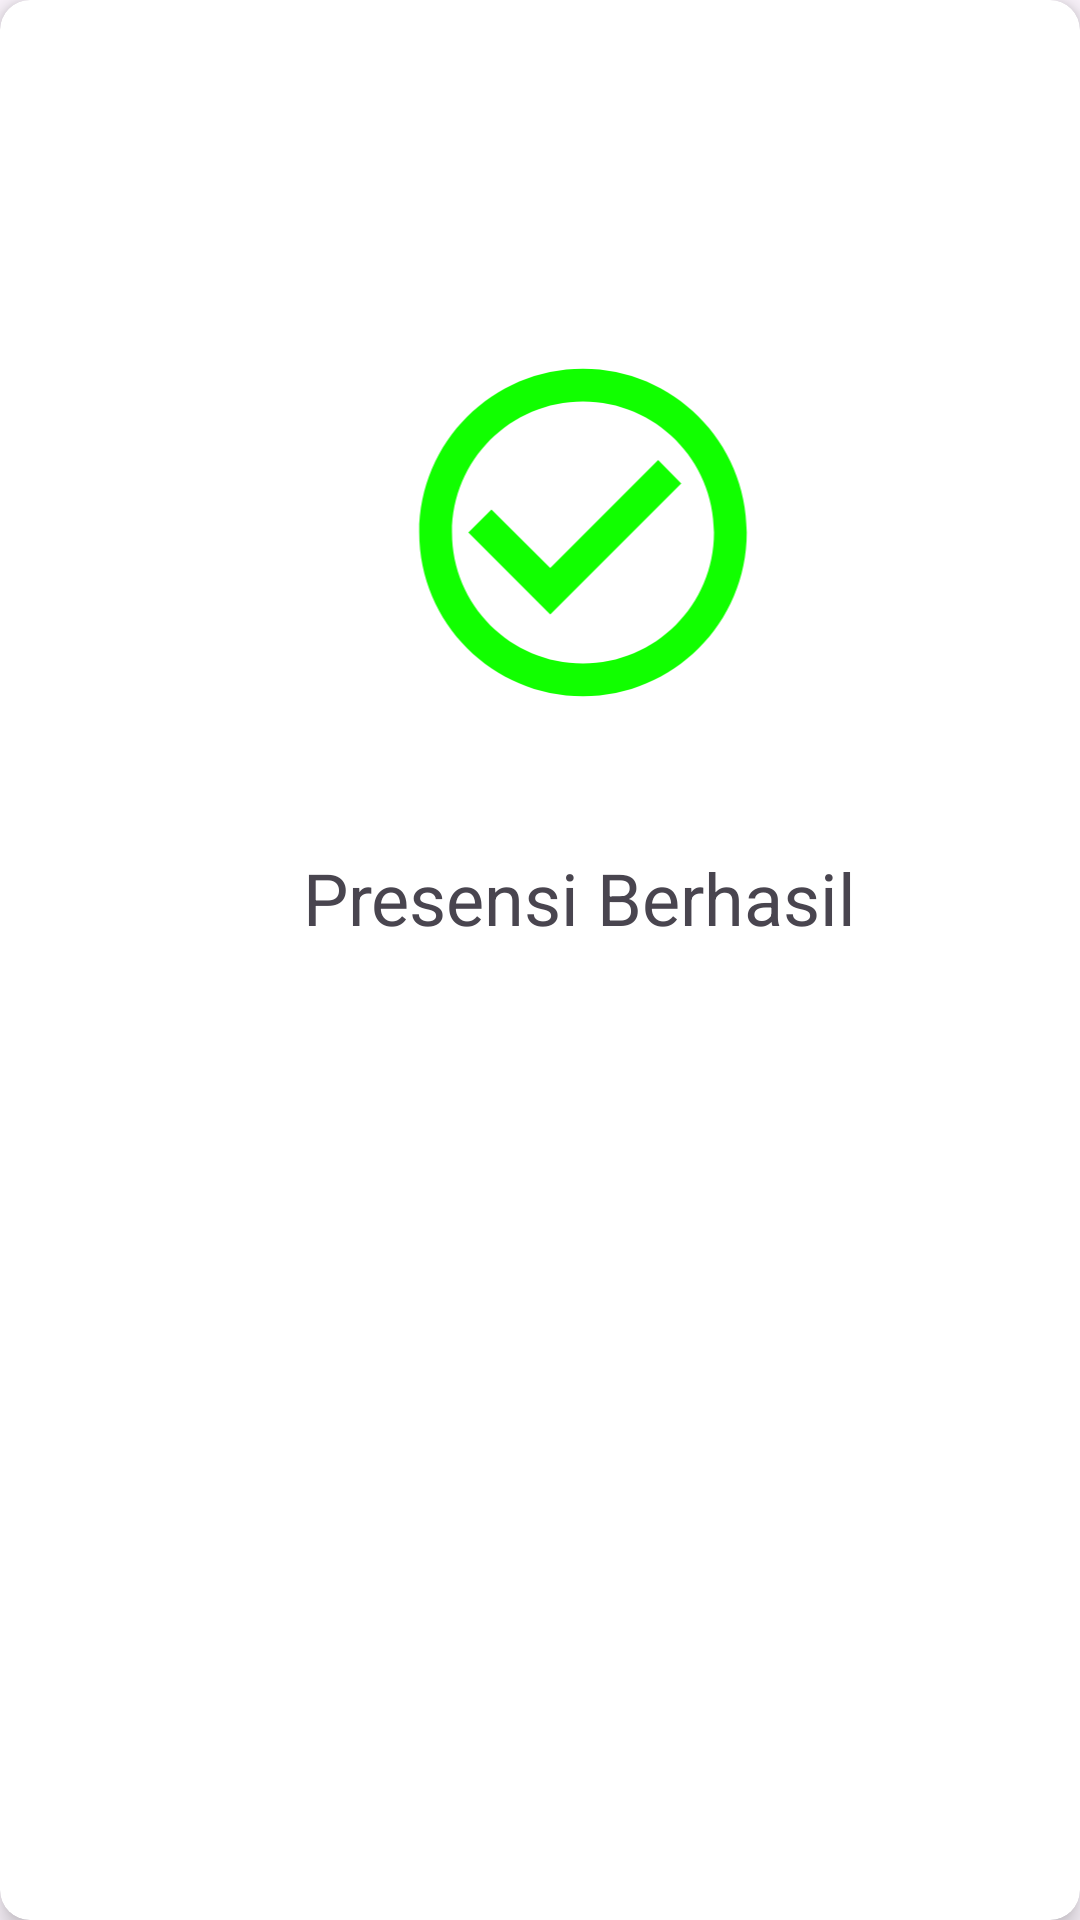

Named icons in this screenshot (1080px×1920px) and their centers, point (x, y):
check circle: point (583, 532)
